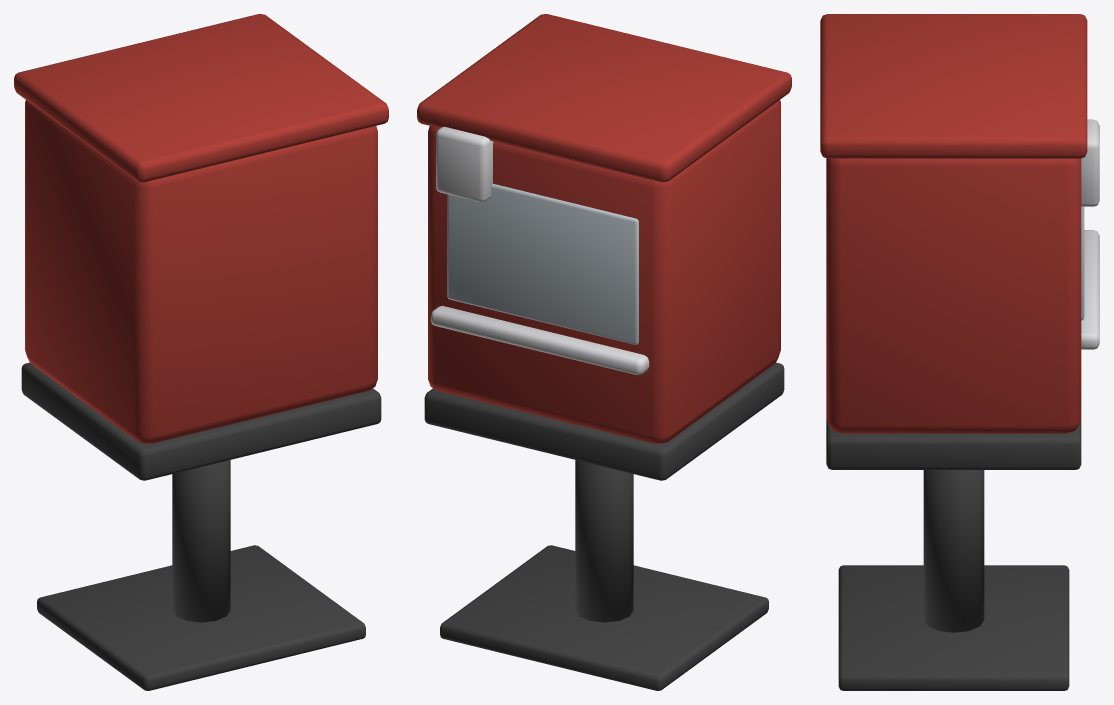
Rendered from newsbox.glb.
3 renders of one model, left to right at view 1: azimuth 30°, elevation 25°; view 2: azimuth 150°, elevation 25°; view 3: azimuth 270°, elevation 25°, orthographic. The views are drawn at different scales.
Parts seen in each view (by area): view 1: newsbox; view 2: newsbox; view 3: newsbox.
Boxes of the visible parts, x1,y1,x2,y2 form: newsbox: (14, 14, 388, 690); newsbox: (417, 14, 791, 690); newsbox: (820, 14, 1099, 690).
Bounding box in the file's own units: 0.5 × 1.02 × 0.46.
